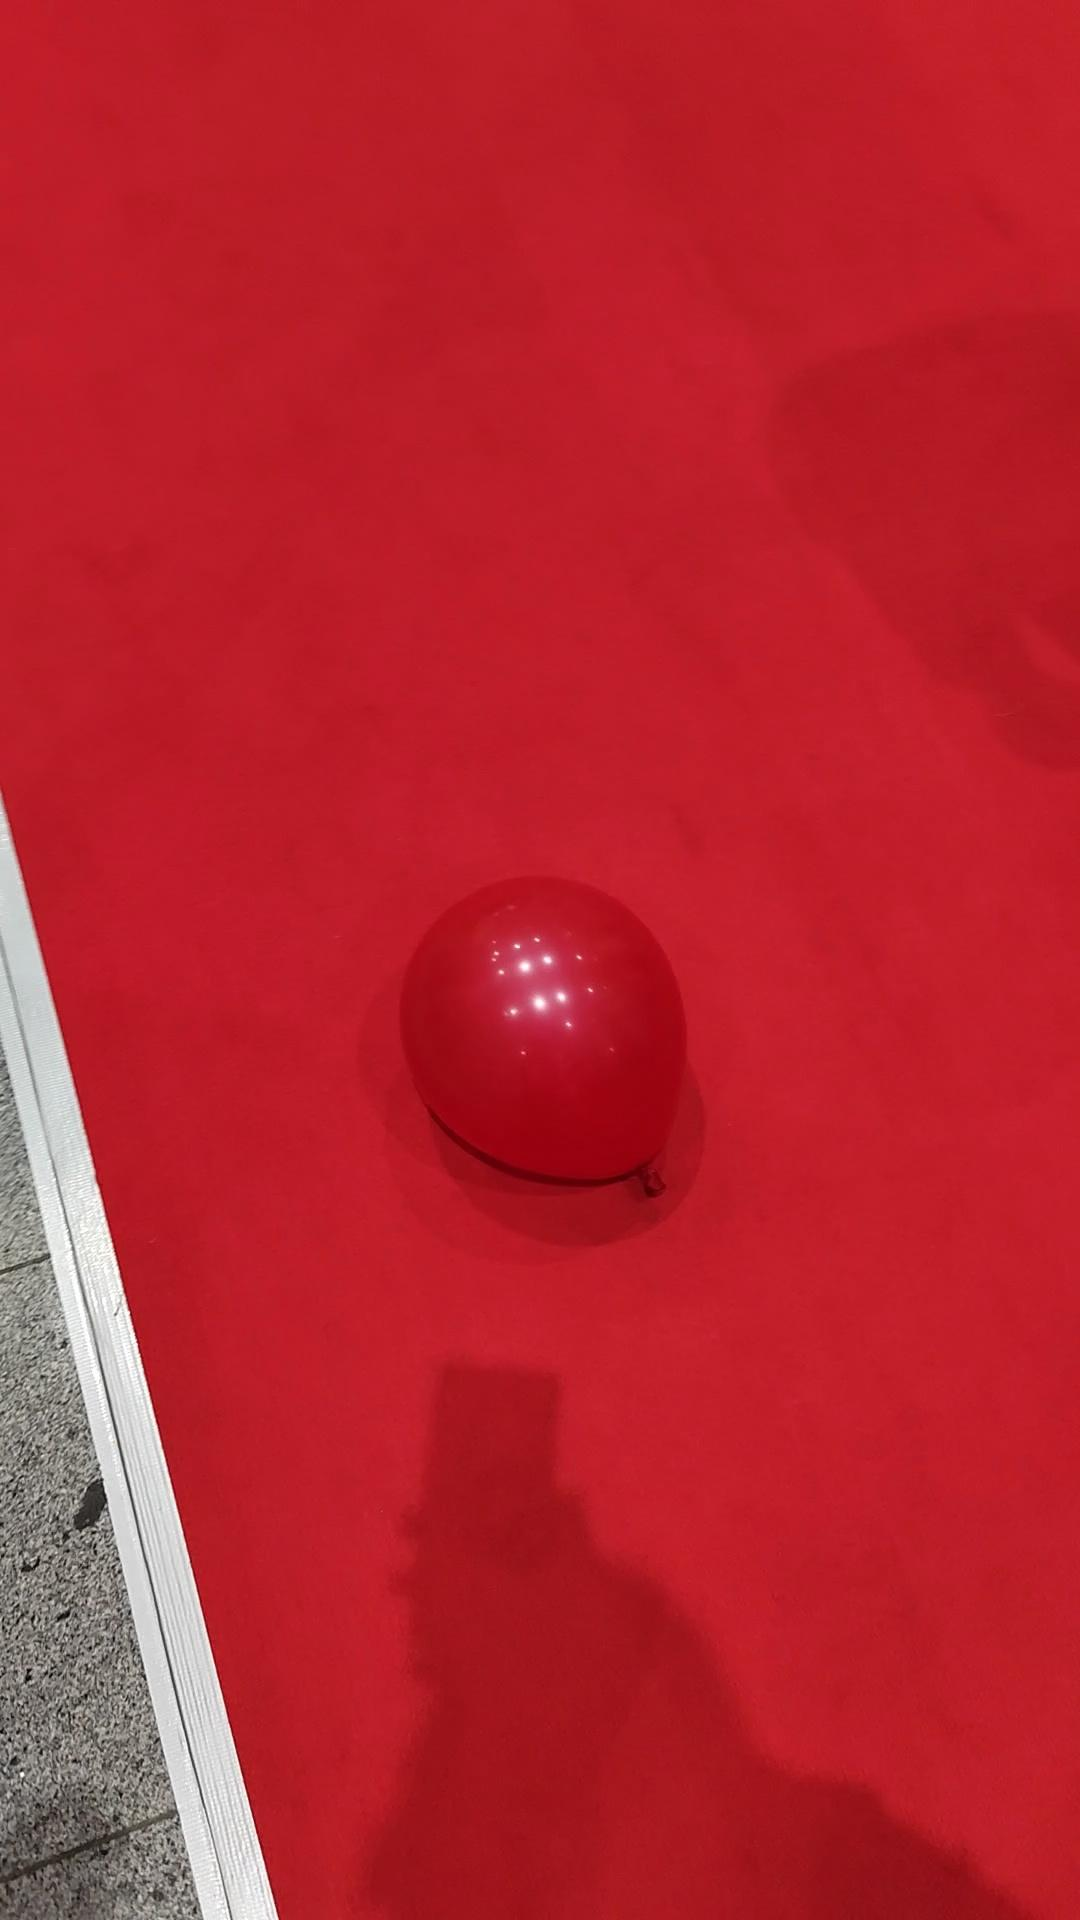red: (400, 876, 688, 1189)
